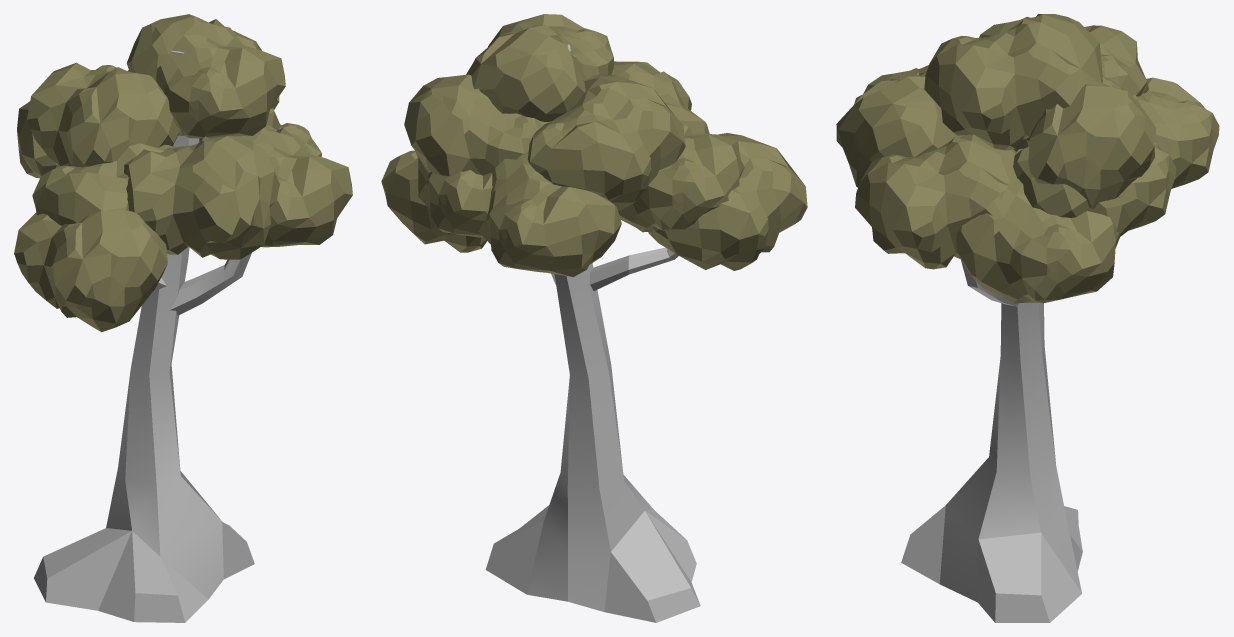
File: Tree 3-Cebu.fbx
3 views of the same model, side by side, from view 1: azimuth 30°, elevation 25°; view 2: azimuth 150°, elevation 25°; view 3: azimuth 270°, elevation 25° (orthographic). The views are drawn at different scales.
Visible parts, largest first — view 1: polySurface104; view 2: polySurface104; view 3: polySurface104.
Part boxes in pixels (x1,y1,x2,y2): polySurface104: (14, 14, 352, 622); polySurface104: (381, 14, 807, 622); polySurface104: (836, 14, 1219, 622).
Size of the model in its own units: 226 by 350 by 209.
